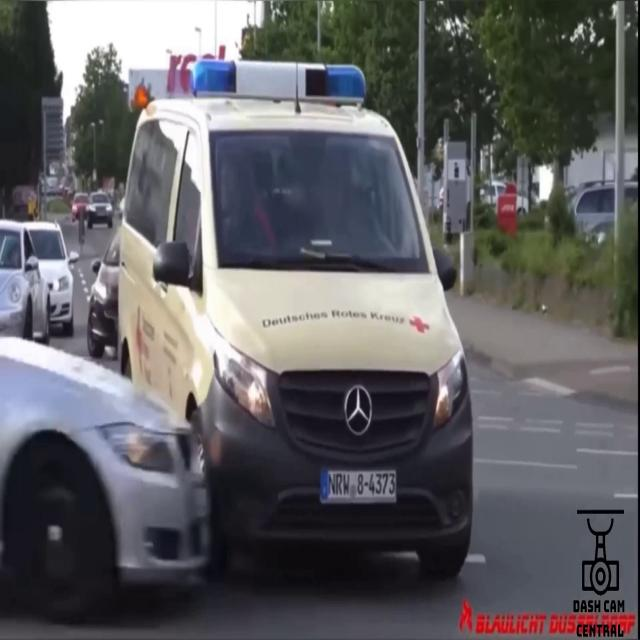accident: (0, 130, 473, 623)
